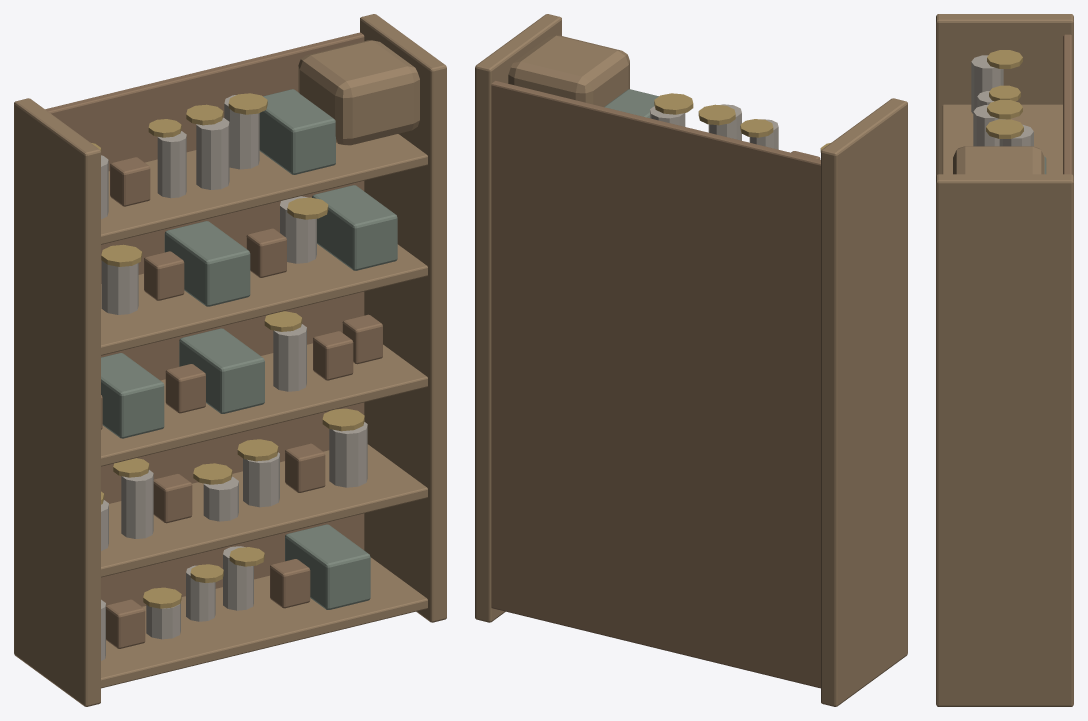
3 views of the same model, side by side, from view 1: azimuth 30°, elevation 25°; view 2: azimuth 150°, elevation 25°; view 3: azimuth 270°, elevation 25° (orthographic). The views are drawn at different scales.
Parts seen in each view (by area): view 1: pantryShelf; view 2: pantryShelf; view 3: pantryShelf.
Boxes of the visible parts, box(x1,y1,x2,y2) form: pantryShelf: box(14, 14, 446, 706); pantryShelf: box(475, 14, 907, 706); pantryShelf: box(936, 14, 1073, 706).
Bounding box in the file's own units: 1.3 × 1.9 × 0.45.
